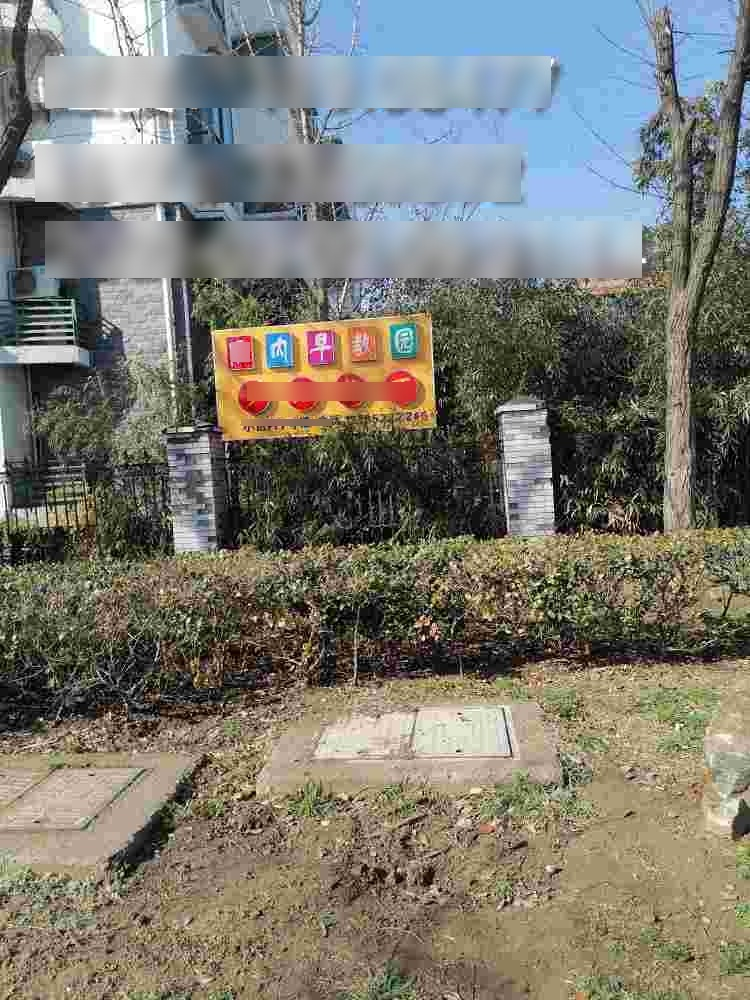good: (306, 702, 524, 761), (2, 765, 152, 829)
